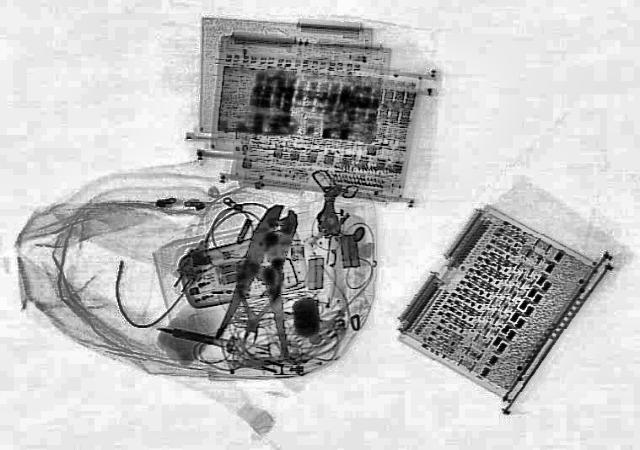Pliers: (210, 200, 326, 356), (224, 274, 284, 346)
